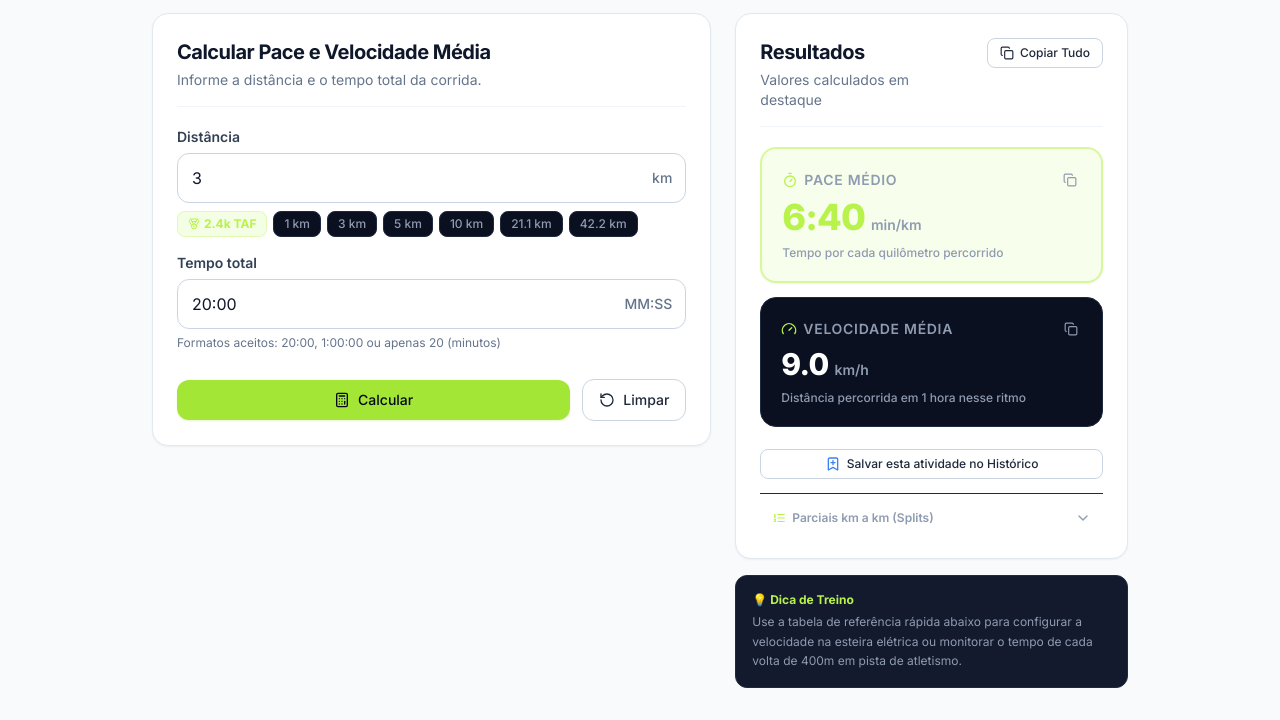
Test case: CalculadoraPage › permite salvar atividade calculada no histórico
The image size is (1280, 720).
(page scrolled)
Click the button "Salvar esta atividade no Histórico": [932, 464] box [760,449,1103,479]
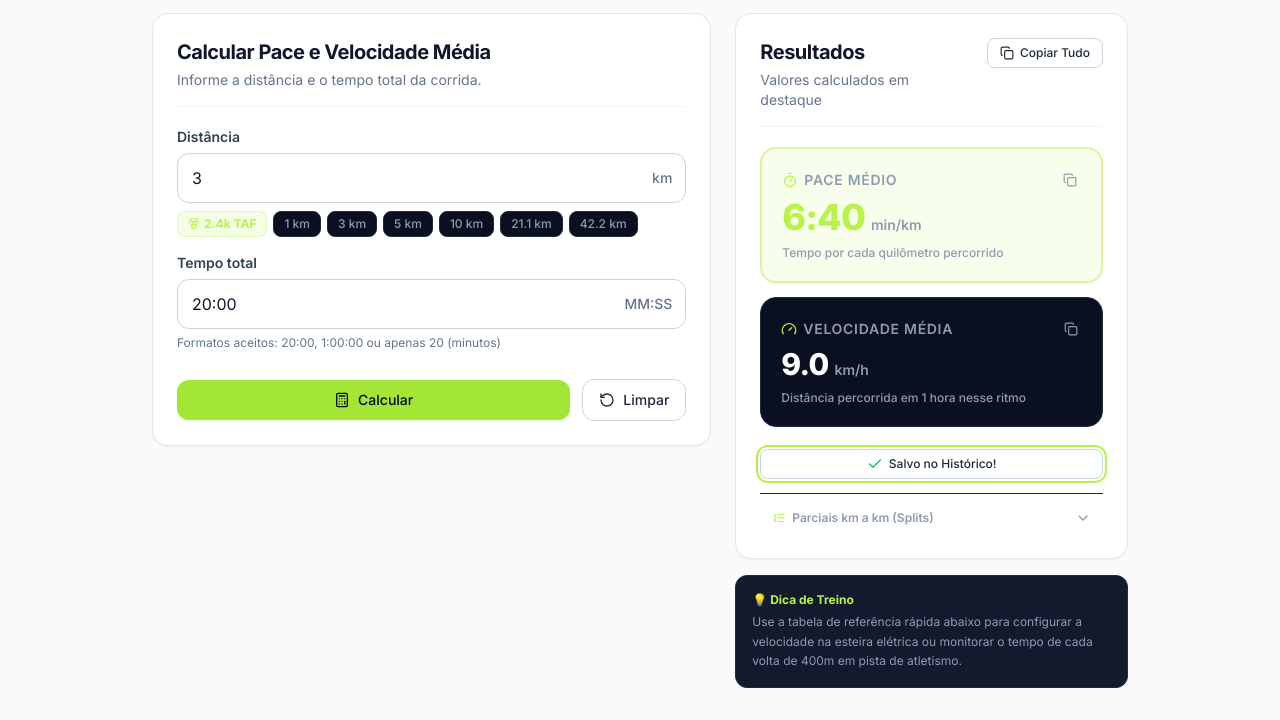
Expected: the text "Salvo no Histórico!" is shown, [889,456,996,472]
